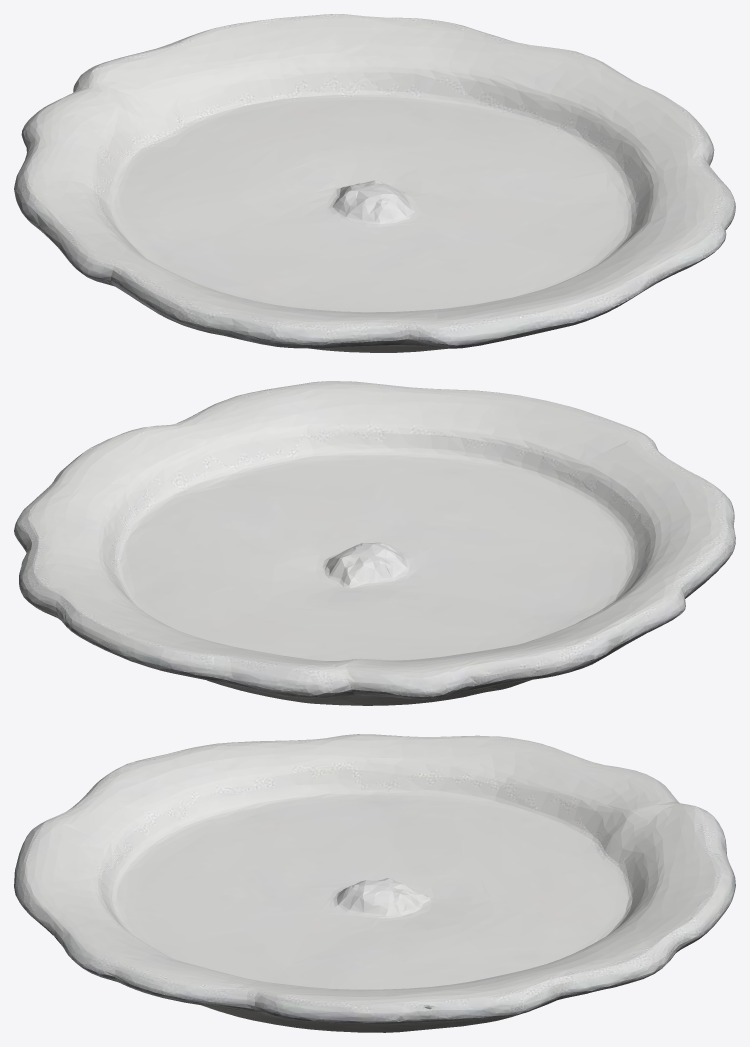
Rendered from white_plate_000.glb.
3 views of the same model, one above another, from view 1: azimuth 30°, elevation 25°; view 2: azimuth 150°, elevation 25°; view 3: azimuth 270°, elevation 25° (orthographic). The views are drawn at different scales.
Visible parts, largest first — view 1: phase2_final_white_plate_000.obj; view 2: phase2_final_white_plate_000.obj; view 3: phase2_final_white_plate_000.obj.
Part boxes in pixels (left/top/right/bottom): phase2_final_white_plate_000.obj: left=14, top=14, right=735, bottom=352; phase2_final_white_plate_000.obj: left=14, top=381, right=735, bottom=705; phase2_final_white_plate_000.obj: left=14, top=734, right=735, bottom=1032.
Size of the model in its own units: 0.4636 by 0.0607 by 0.4967.
Materials: 1 (1 with a texture image).
